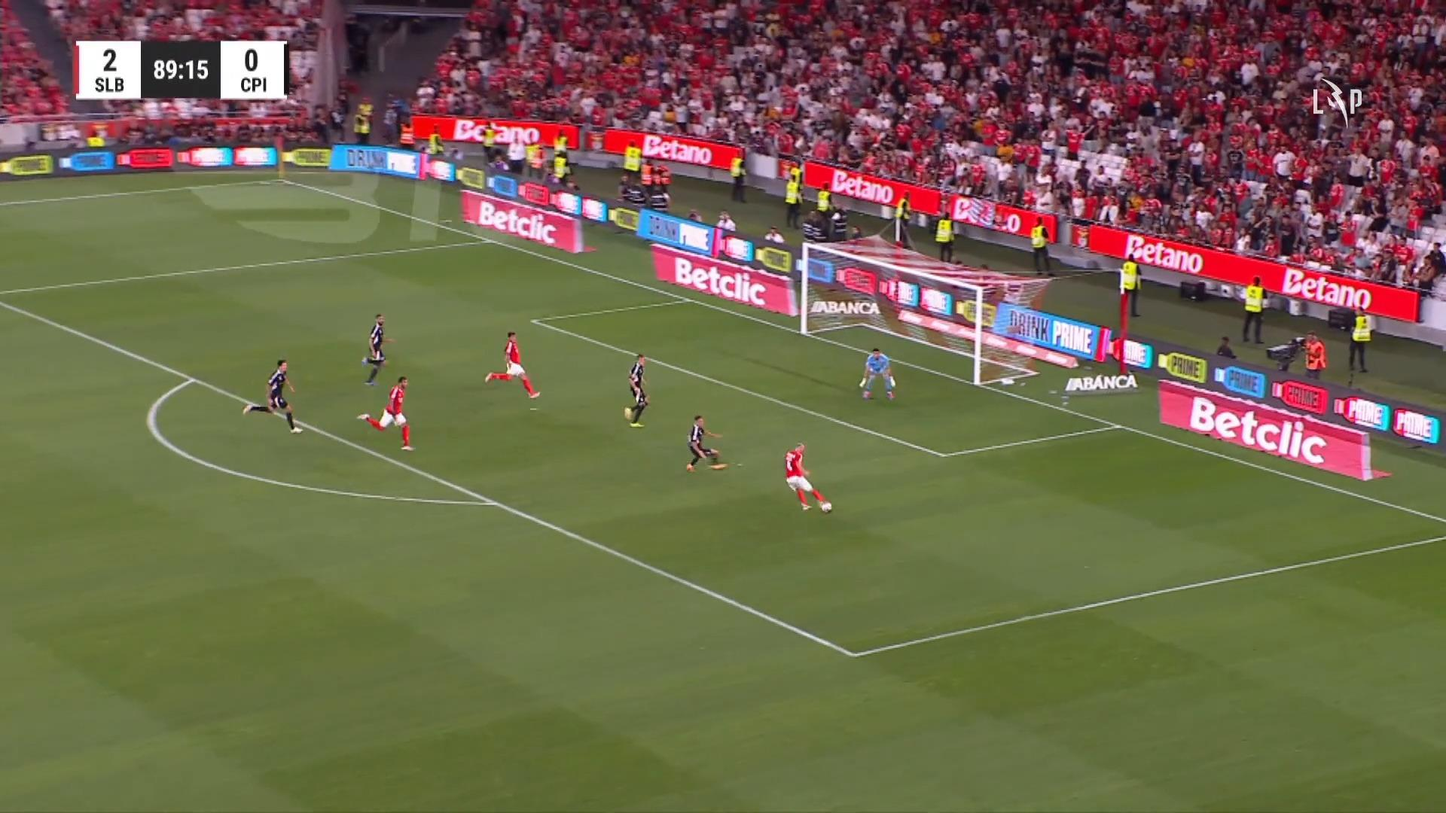ball: (819, 501, 831, 513)
goalkeeper: (858, 346, 896, 400)
player: (241, 358, 304, 434), (356, 375, 415, 451), (483, 330, 541, 399), (783, 441, 832, 513), (685, 414, 728, 471), (361, 312, 394, 385), (623, 352, 649, 428), (623, 394, 648, 428)
